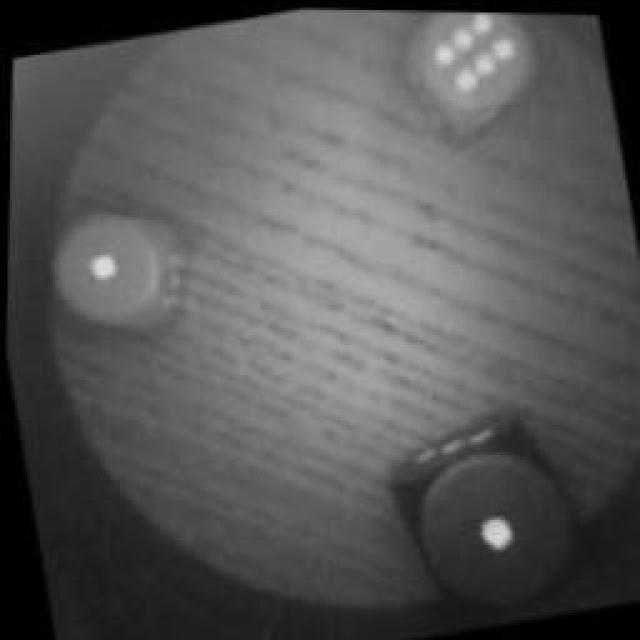dice_1: (388, 411, 598, 621), (28, 186, 204, 349)
dice_6: (381, 6, 561, 146)
